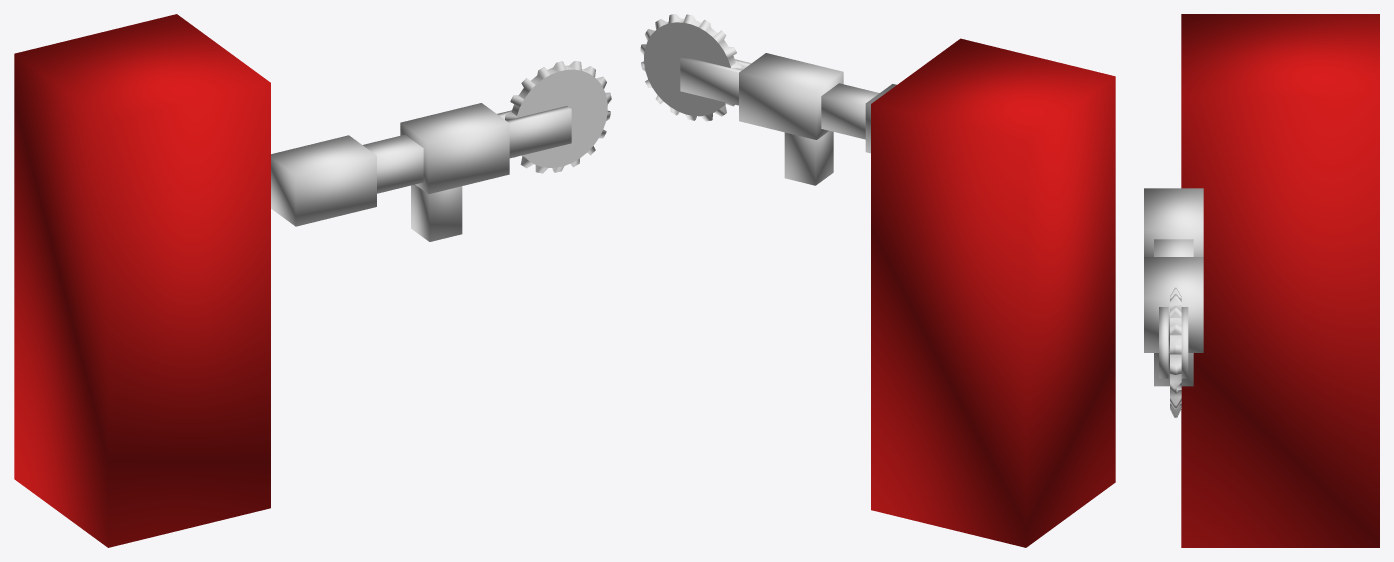
The model's file is segheria.fbx.
The picture shows the model from 3 angles, left to right: view 1: azimuth 30°, elevation 25°; view 2: azimuth 150°, elevation 25°; view 3: azimuth 270°, elevation 25°; orthographic projection. The views are drawn at different scales.
Visible parts, largest first — view 1: Cubo, Cubo.1, Cubo.3, Cilindro, Cubo.4, Cubo.5, Cubo.2; view 2: Cubo, Cubo.3, Cilindro, Cubo.4, Cubo.2, Cubo.6; view 3: Cubo, Cubo.3, Cubo.1, Cilindro, Cubo.5, Cubo.2, Cubo.4, Cubo.6.
Boxes of the visible parts, box(x1,y1,x2,y2) form: Cubo: box(14, 14, 270, 547); Cubo.1: box(271, 135, 376, 226); Cubo.3: box(400, 103, 509, 194); Cilindro: box(505, 61, 611, 173); Cubo.4: box(411, 184, 462, 241); Cubo.5: box(506, 106, 571, 158); Cubo.2: box(363, 134, 423, 193); Cubo: box(871, 38, 1115, 547); Cubo.3: box(739, 53, 843, 139); Cilindro: box(640, 14, 741, 121); Cubo.4: box(784, 131, 833, 185); Cubo.2: box(821, 83, 879, 139); Cubo.6: box(680, 56, 742, 105); Cubo: box(1181, 14, 1379, 547); Cubo.3: box(1144, 257, 1203, 352); Cubo.1: box(1144, 188, 1203, 256); Cilindro: box(1170, 287, 1181, 418); Cubo.5: box(1159, 307, 1168, 378); Cubo.2: box(1154, 239, 1193, 256); Cubo.4: box(1154, 353, 1193, 386); Cubo.6: box(1181, 307, 1188, 378).
Size of the model in its own units: 308 by 250 by 119.
